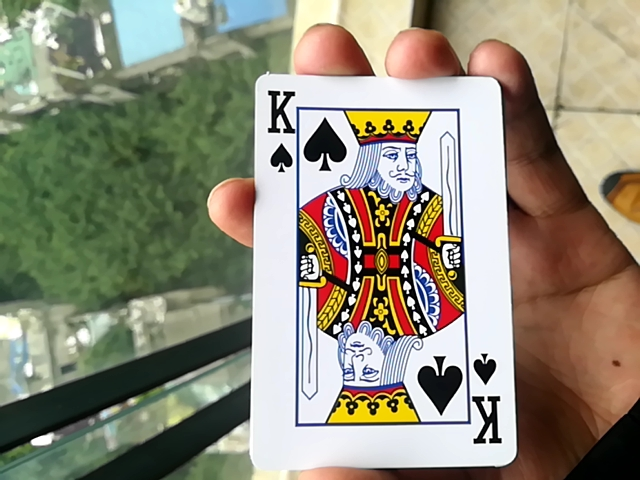ht k: (244, 80, 508, 470)
